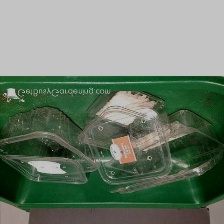plastic_box: (100, 104, 223, 199), (71, 90, 177, 187), (0, 102, 103, 190)
